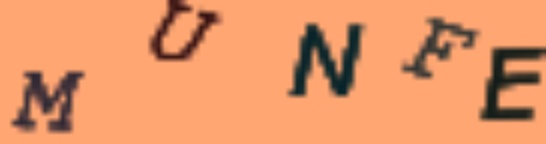E: (483, 41, 546, 124)
F: (397, 15, 480, 83)
M: (8, 66, 89, 137)
N: (282, 14, 370, 100)
U: (148, 1, 225, 63)
